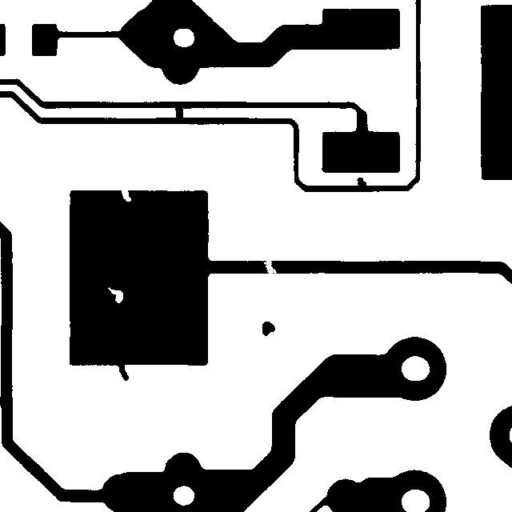copper: (254, 314, 282, 343)
mousebite: (114, 179, 138, 209)
open: (253, 249, 284, 288)
pin-hole: (100, 279, 130, 310)
short: (167, 98, 190, 127)
spur: (109, 354, 136, 388), (349, 170, 374, 195)
